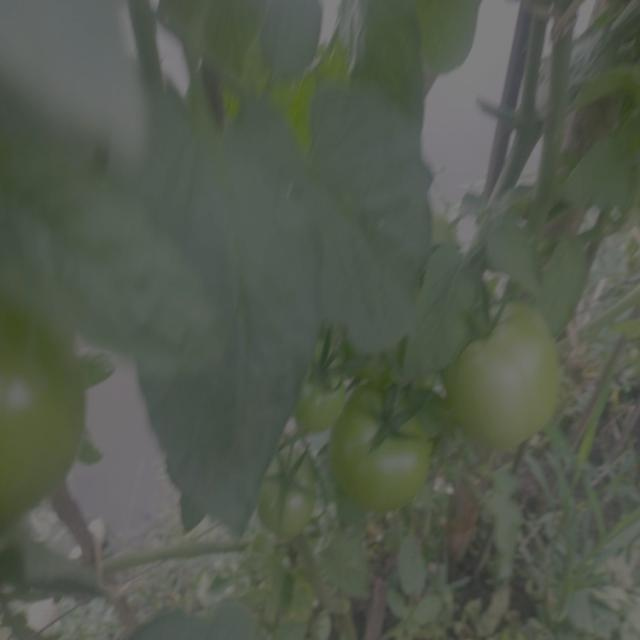tomato: (1, 310, 108, 524), (451, 300, 560, 447), (343, 392, 433, 505), (254, 447, 327, 542), (295, 357, 350, 428)
